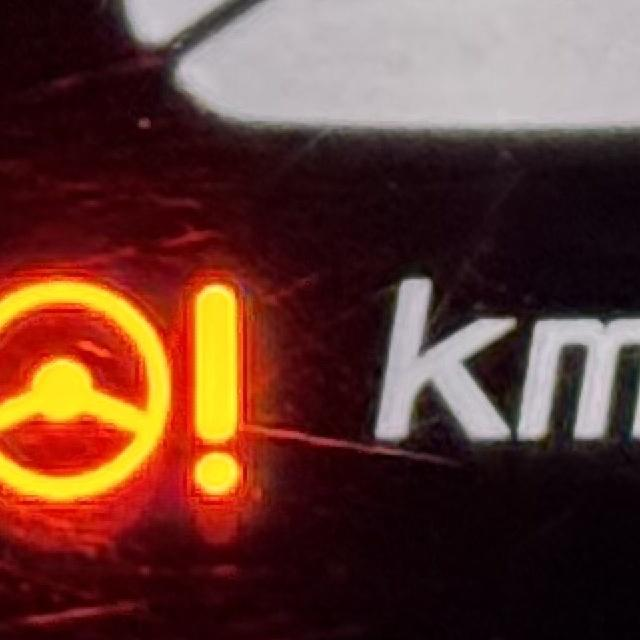Steering Wheel Locked: (1, 270, 249, 511)
